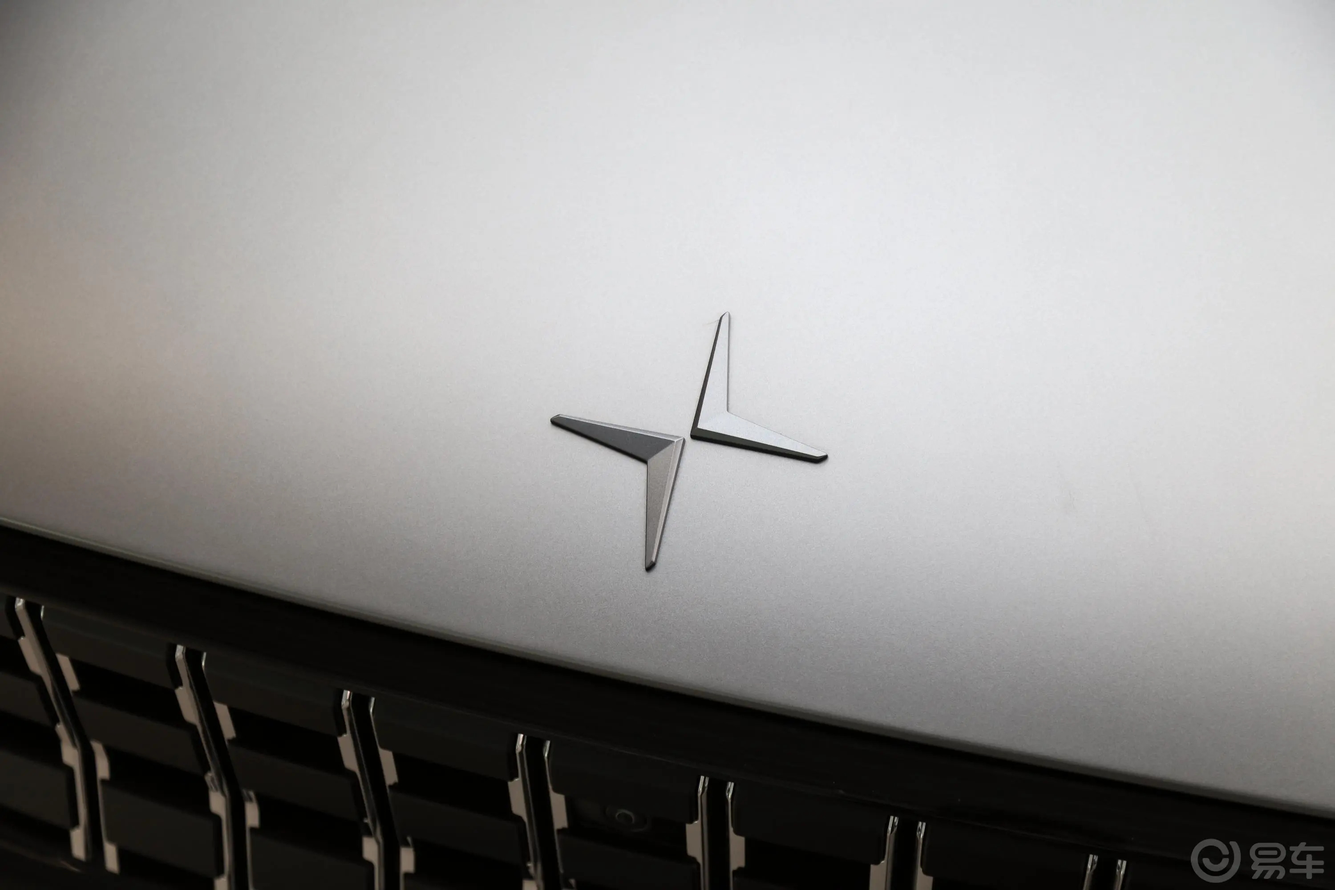Polestar: (551, 311, 827, 570)
